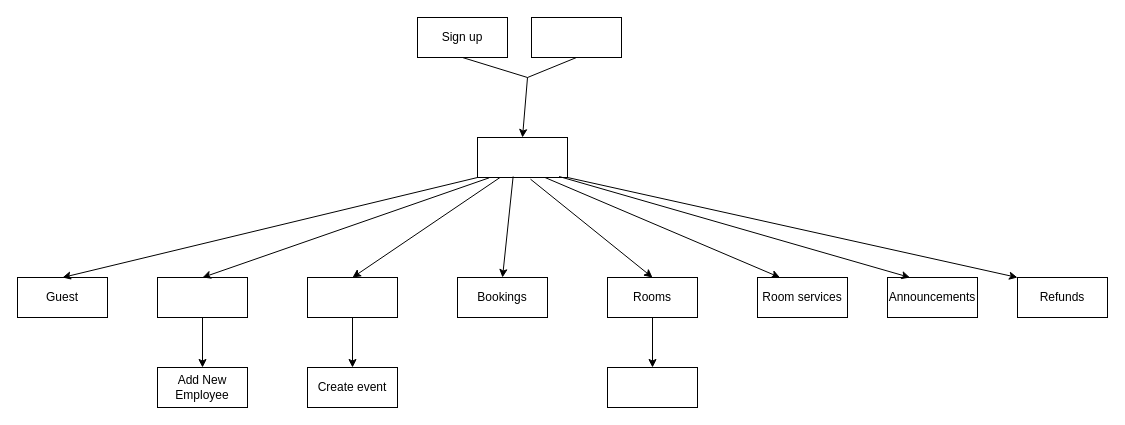
The diagram is 1125 pixels wide and 425 high, and some of its shapes have lost their labels. The centre of each missing label's shape, as x and y in pixels:
"Add room" belongs at point 652,387.
"Employees" belongs at point 202,297.
"Events" belongs at point 352,297.
"Index" belongs at point 522,157.
"Sign in" belongs at point 576,37.
